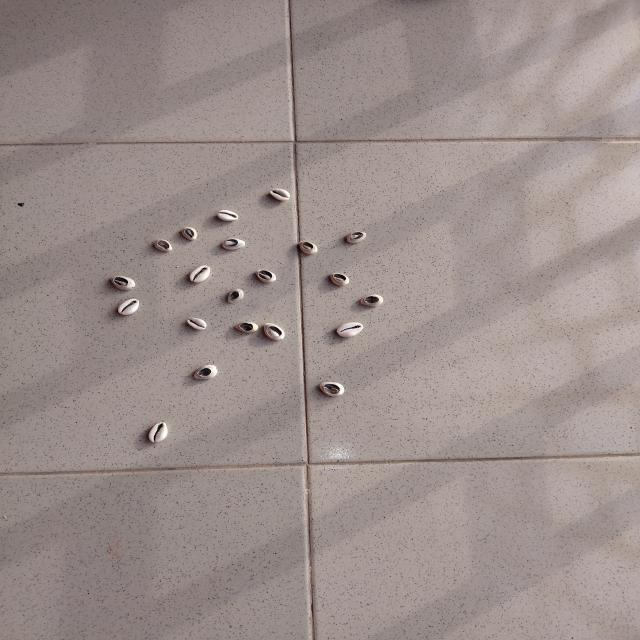facedown: (314, 379, 351, 399), (188, 362, 222, 382), (107, 272, 140, 292), (260, 322, 288, 344), (176, 224, 203, 243), (252, 268, 280, 286), (218, 236, 248, 252), (326, 270, 354, 287), (295, 239, 321, 257), (151, 238, 179, 254), (232, 320, 260, 336), (223, 287, 248, 304), (342, 230, 370, 244), (359, 294, 385, 308)
faceup: (114, 296, 145, 318), (330, 321, 367, 339), (147, 420, 171, 447), (186, 264, 214, 285), (213, 208, 243, 224), (266, 186, 294, 203), (184, 314, 210, 332)
